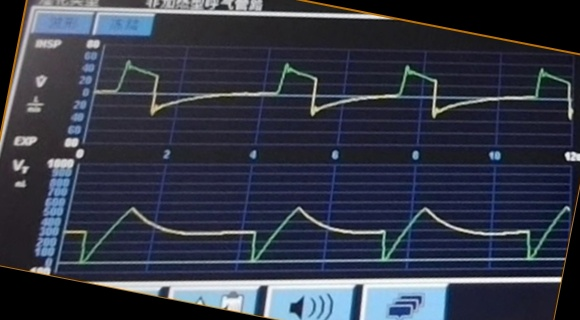Flow: (103, 58, 573, 139)
Leakage Volume: (73, 193, 562, 270)
